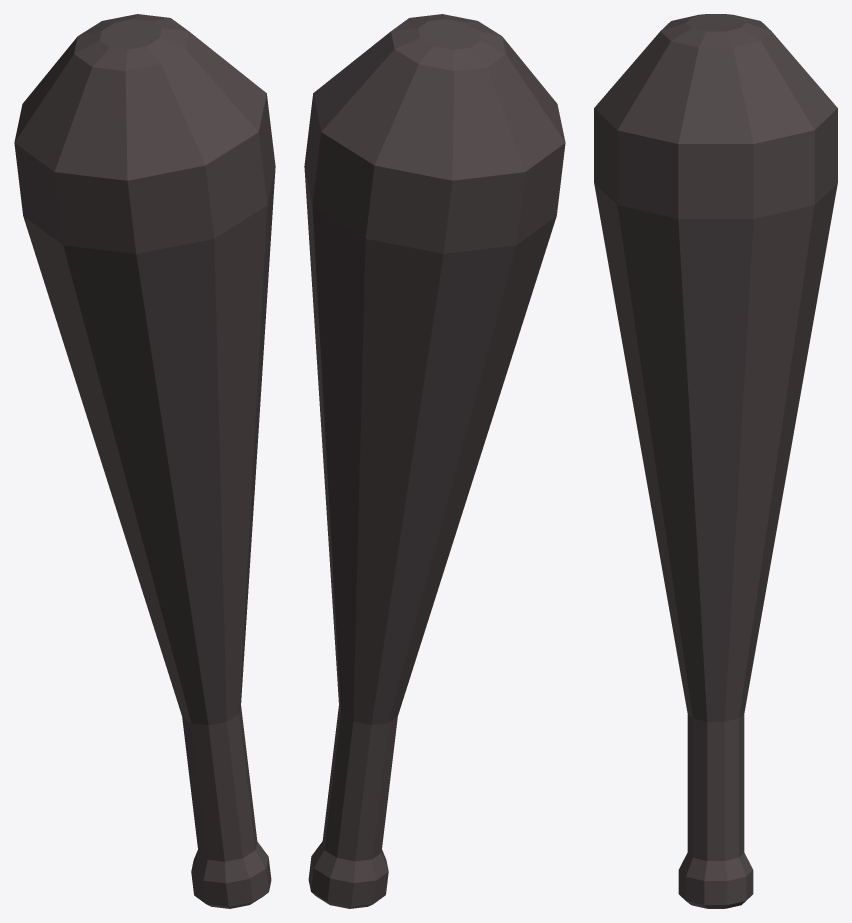
File: mazoNieve.fbx
The picture shows the model from 3 angles, left to right: view 1: azimuth 30°, elevation 25°; view 2: azimuth 150°, elevation 25°; view 3: azimuth 270°, elevation 25°; orthographic projection. The views are drawn at different scales.
Visible parts, largest first — view 1: MazoMalo; view 2: MazoMalo; view 3: MazoMalo.
Part boxes in pixels (<box>): MazoMalo: <box>14,14,275,908</box>; MazoMalo: <box>304,14,565,908</box>; MazoMalo: <box>594,14,837,908</box>.
Size of the model in its own units: 142 by 526 by 139.
